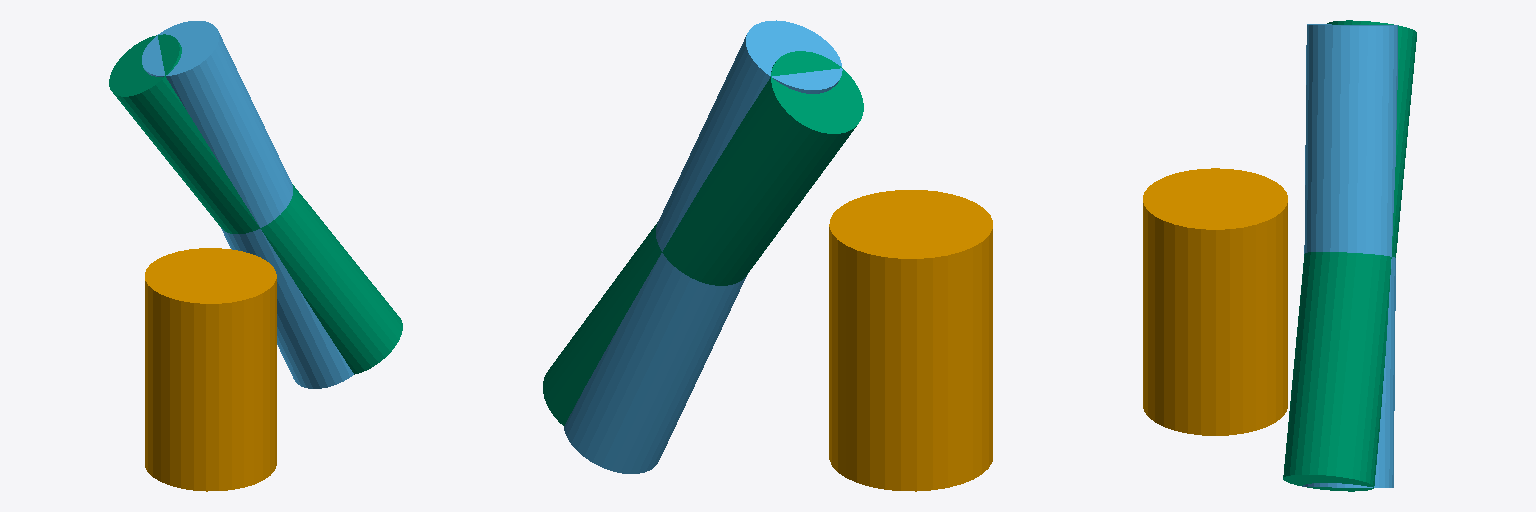
robot.urdf — pepe:
<?xml version="1.0"?><robot name="pepe">
	<link name="0">
		<visual>
			<geometry>
				<cylinder length="1.3893298455281617" radius="0.4449545980872709"/>
			</geometry>
		</visual>
		<collision>
			<geometry>
				<cylinder length="1.3893298455281617" radius="0.4449545980872709"/>
			</geometry>
		</collision>
		<inertial>
			<mass value="0.8641450292213986"/>
			<inertia ixx="0.03" iyy="0.03" izz="0.03" ixy="0" ixz="0" iyx="0"/>
		</inertial>
	</link>
	<link name="11">
		<visual>
			<geometry>
				<cylinder length="2.8219324425915286" radius="0.2802727606231159"/>
			</geometry>
		</visual>
		<collision>
			<geometry>
				<cylinder length="2.8219324425915286" radius="0.2802727606231159"/>
			</geometry>
		</collision>
		<inertial>
			<mass value="0.6963992066119021"/>
			<inertia ixx="0.03" iyy="0.03" izz="0.03" ixy="0" ixz="0" iyx="0"/>
		</inertial>
	</link>
	<link name="12">
		<visual>
			<geometry>
				<cylinder length="2.8219324425915286" radius="0.2802727606231159"/>
			</geometry>
		</visual>
		<collision>
			<geometry>
				<cylinder length="2.8219324425915286" radius="0.2802727606231159"/>
			</geometry>
		</collision>
		<inertial>
			<mass value="0.6963992066119021"/>
			<inertia ixx="0.03" iyy="0.03" izz="0.03" ixy="0" ixz="0" iyx="0"/>
		</inertial>
	</link>
	<joint name="11_to_0" type="revolute">
		<parent link="0"/>
		<child link="11"/>
		<axis xyz="0 0 1"/>
		<limit effort="1" upper="-3.1415" lower="3.1415" velocity="1"/>
		<origin rpy="5.8952369049848725 3.3106343739814474 4.297380134307079" xyz="0.8262303950921 0.8226883777035289 0.6965361425547957"/>
	</joint>
	<joint name="12_to_0" type="revolute">
		<parent link="0"/>
		<child link="12"/>
		<axis xyz="0 0 1"/>
		<limit effort="1" upper="-3.1415" lower="3.1415" velocity="1"/>
		<origin rpy="8.842855357477308 3.3106343739814474 4.297380134307079" xyz="0.8262303950921 0.8226883777035289 0.6965361425547957"/>
	</joint>
</robot>

--- Render facts (derived) ---
Views: 3 orthographic renders of the robot side by side, from view 1: azimuth 30°, elevation 25°; view 2: azimuth 150°, elevation 25°; view 3: azimuth 270°, elevation 25°.
Robot: pepe — 3 links, 2 joints (2 revolute); root link 0; default pose: every joint at zero.
Visible links, largest first — view 1: 0, 12, 11; view 2: 0, 11, 12; view 3: 0, 12, 11.
Link boxes in pixels (bbox=[...]): 0: bbox=[145, 248, 276, 491]; 12: bbox=[109, 34, 402, 374]; 11: bbox=[142, 21, 353, 388]; 0: bbox=[829, 190, 992, 491]; 11: bbox=[564, 20, 842, 473]; 12: bbox=[543, 51, 863, 425]; 0: bbox=[1143, 168, 1287, 435]; 12: bbox=[1283, 20, 1416, 491]; 11: bbox=[1302, 24, 1397, 487].
Bounding box of the posed robot: 2.29 × 1.68 × 2.8 m (x, y, z).
Geometry: primitives only (box / cylinder / sphere), no mesh files.
